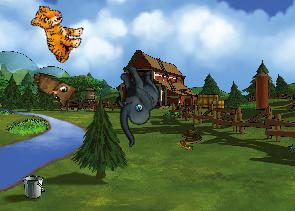elephant: (94, 59, 177, 147)
owl: (27, 71, 79, 109)
tiger: (21, 1, 89, 66)
